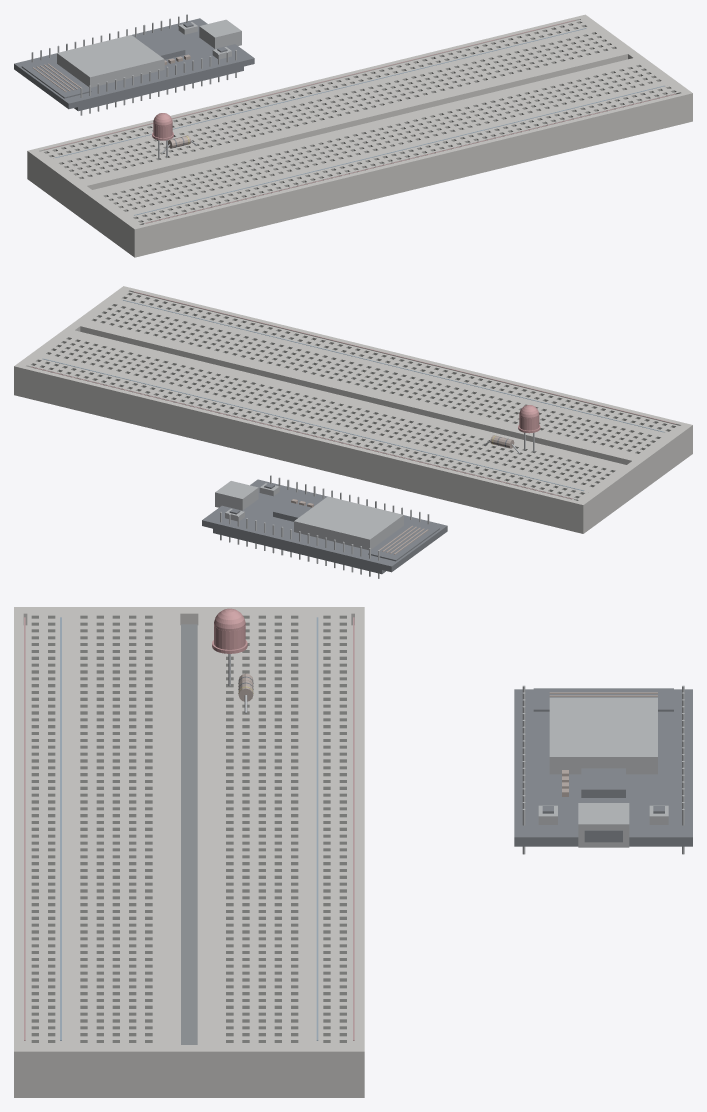
The model's file is step-4.glb.
The picture shows the model from 3 angles, top to bottom: view 1: azimuth 30°, elevation 25°; view 2: azimuth 150°, elevation 25°; view 3: azimuth 270°, elevation 25°; orthographic projection. The views are drawn at different scales.
Parts seen in each view (by area): view 1: breadboard__mesh, uno__mesh, led_red__mesh; view 2: breadboard__mesh, uno__mesh, led_red__mesh; view 3: breadboard__mesh, uno__mesh, led_red__mesh.
Boxes of the visible parts, x1=… form: breadboard__mesh: x1=27, y1=14, x2=692, y2=257; uno__mesh: x1=14, y1=14, x2=254, y2=115; led_red__mesh: x1=152, y1=113, x2=173, y2=159; breadboard__mesh: x1=14, y1=286, x2=692, y2=533; uno__mesh: x1=202, y1=475, x2=447, y2=578; led_red__mesh: x1=518, y1=405, x2=540, y2=452; breadboard__mesh: x1=14, y1=607, x2=364, y2=1097; uno__mesh: x1=514, y1=685, x2=692, y2=854; led_red__mesh: x1=212, y1=608, x2=247, y2=686.
Size of the model in its own units: 0.165 by 0.0205 by 0.1065.
